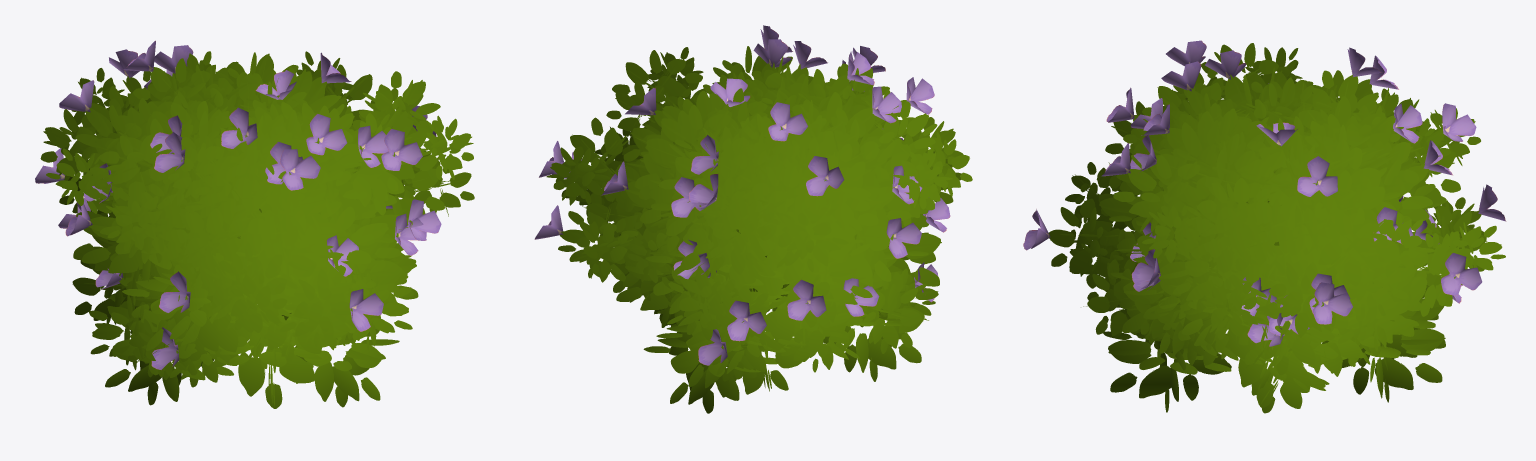
File: Bush_Common_Flowers.glb
The picture shows the model from 3 angles, left to right: view 1: azimuth 30°, elevation 25°; view 2: azimuth 150°, elevation 25°; view 3: azimuth 270°, elevation 25°; orthographic projection. The views are drawn at different scales.
Parts seen in each view (by area): view 1: Bush_Common_Flowers; view 2: Bush_Common_Flowers; view 3: Bush_Common_Flowers.
Part boxes in pixels (bbox=[...]): Bush_Common_Flowers: bbox=[35, 40, 474, 408]; Bush_Common_Flowers: bbox=[534, 25, 972, 413]; Bush_Common_Flowers: bbox=[1023, 40, 1506, 413].
Size of the model in its own units: 1.91 by 1.58 by 1.97.
2 materials, 2 textured.
